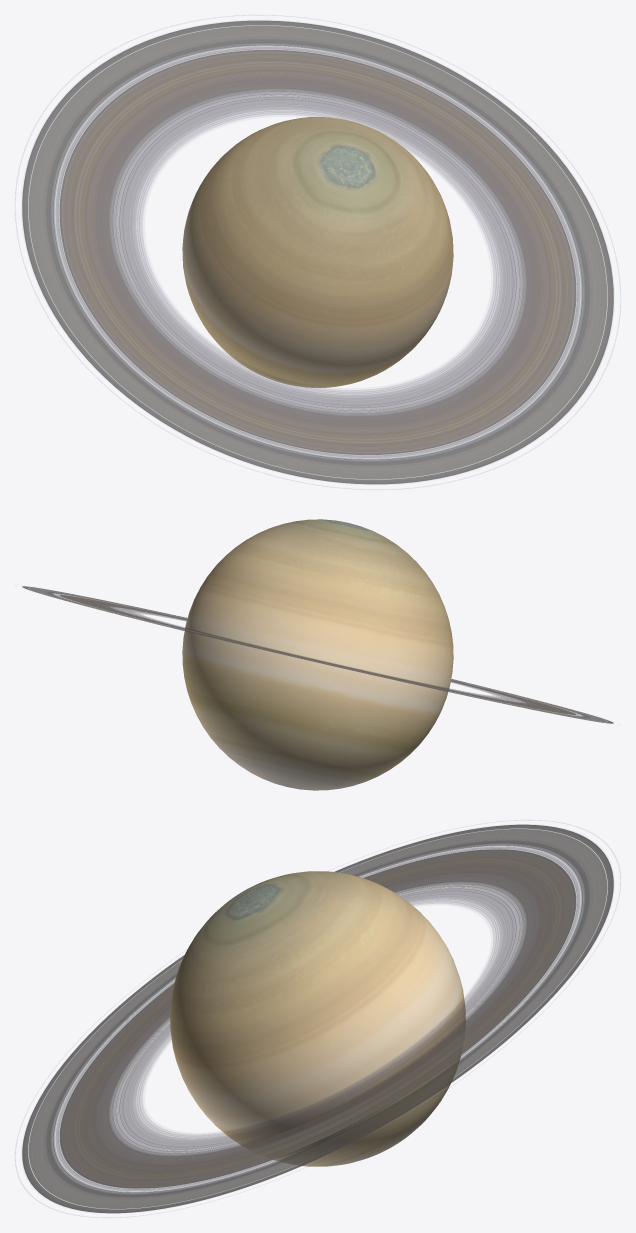
Rendered from Saturn.glb.
3 renders of one model, top to bottom at view 1: azimuth 30°, elevation 25°; view 2: azimuth 150°, elevation 25°; view 3: azimuth 270°, elevation 25°, orthographic. The views are drawn at different scales.
Parts seen in each view (by area): view 1: Saturn_Rings, Saturn; view 2: Saturn, Saturn_Rings; view 3: Saturn_Rings, Saturn.
Boxes of the visible parts, left/top/right/bottom form: Saturn_Rings: left=22, top=20, right=613, bottom=484; Saturn: left=182, top=117, right=453, bottom=387; Saturn: left=182, top=519, right=453, bottom=790; Saturn_Rings: left=22, top=586, right=613, bottom=723; Saturn_Rings: left=22, top=824, right=613, bottom=1213; Saturn: left=170, top=871, right=465, bottom=1166.
Size of the model in its own units: 11.04 by 4.96 by 9.86.
Materials: 2 (2 with a texture image).
